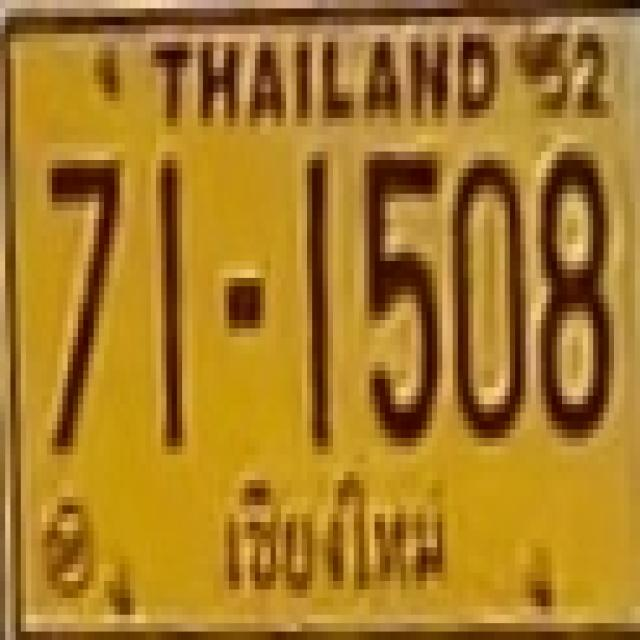0: (448, 152, 520, 430)
1: (302, 152, 328, 446), (158, 152, 180, 446)
5: (359, 143, 437, 438)
7: (47, 152, 120, 446)
8: (536, 143, 609, 430)
CMI: (205, 465, 459, 605)
